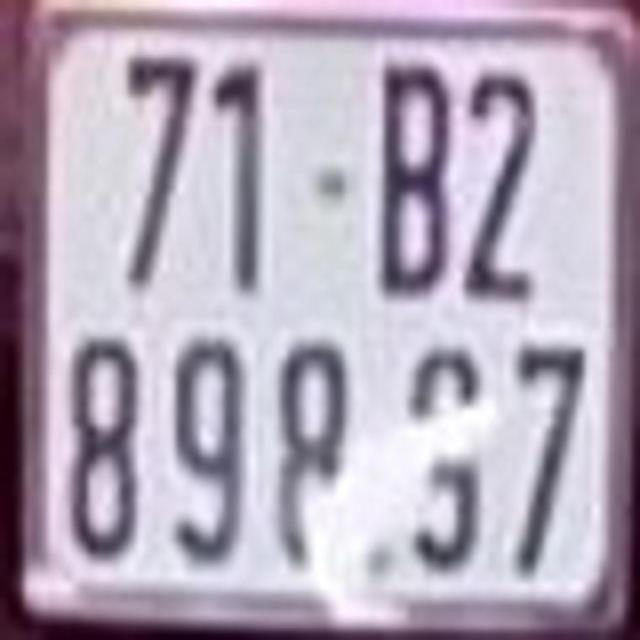1: (205, 48, 278, 292)
2: (461, 61, 542, 302)
3: (402, 332, 488, 572)
7: (508, 326, 592, 578), (124, 49, 199, 281)
8: (272, 328, 352, 579), (68, 323, 138, 568)
9: (170, 324, 243, 567)
B: (373, 49, 451, 298)
